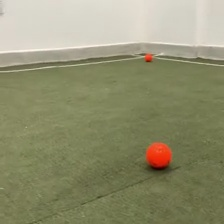ball: (143, 139, 173, 171), (143, 51, 153, 63)
